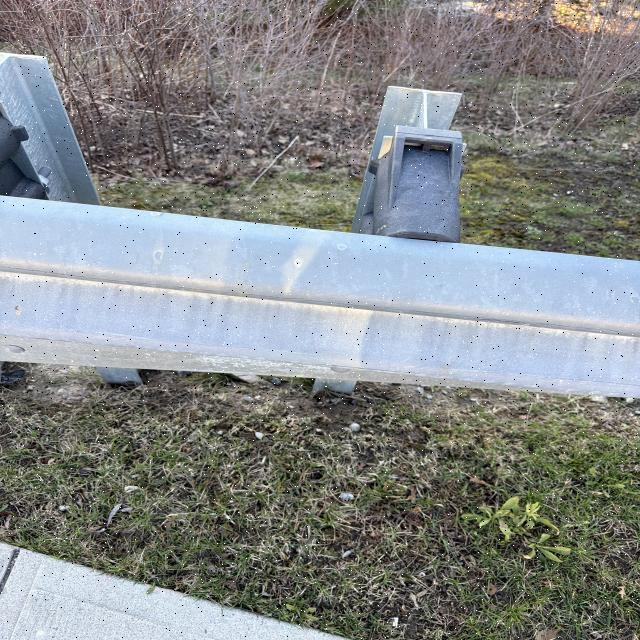Guard rail: (0, 92, 604, 370), (0, 111, 49, 200)
